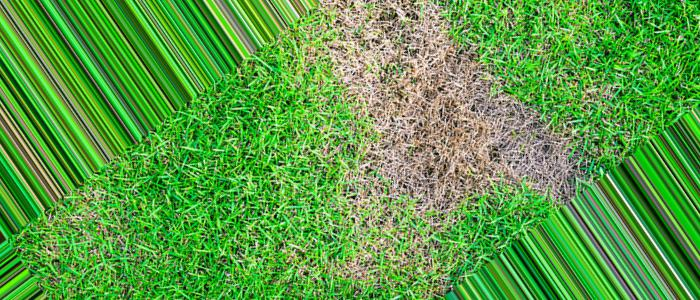patch: (387, 105, 509, 175), (358, 43, 449, 126), (355, 3, 435, 66), (496, 118, 552, 177), (391, 169, 462, 202)
